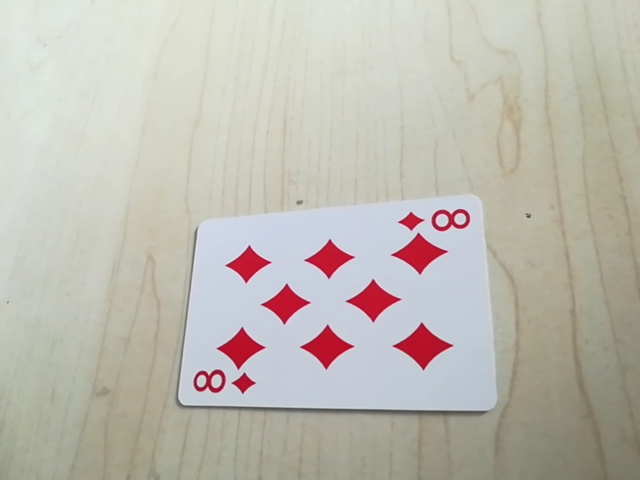fk 8: (398, 201, 474, 237), (189, 366, 259, 402)
